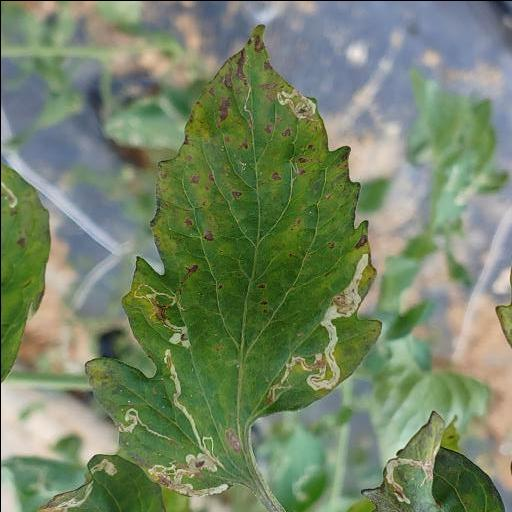disease_tomato: (83, 21, 383, 499)
